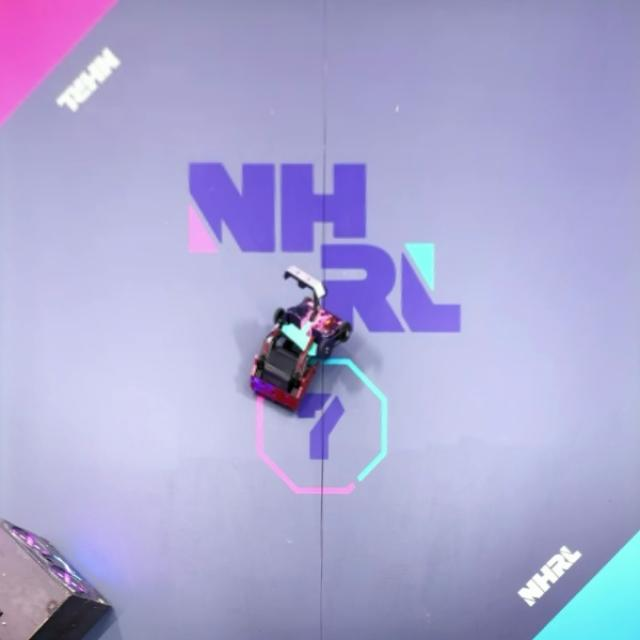robot: (0, 517, 113, 640), (250, 319, 334, 413), (272, 267, 354, 362)
